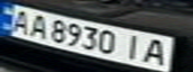0: (97, 27, 118, 56)
3: (78, 25, 100, 52)
8: (45, 17, 69, 44)
9: (63, 21, 84, 48)
A: (139, 36, 175, 68), (3, 7, 36, 35), (24, 12, 51, 39)
I: (118, 32, 148, 62)
